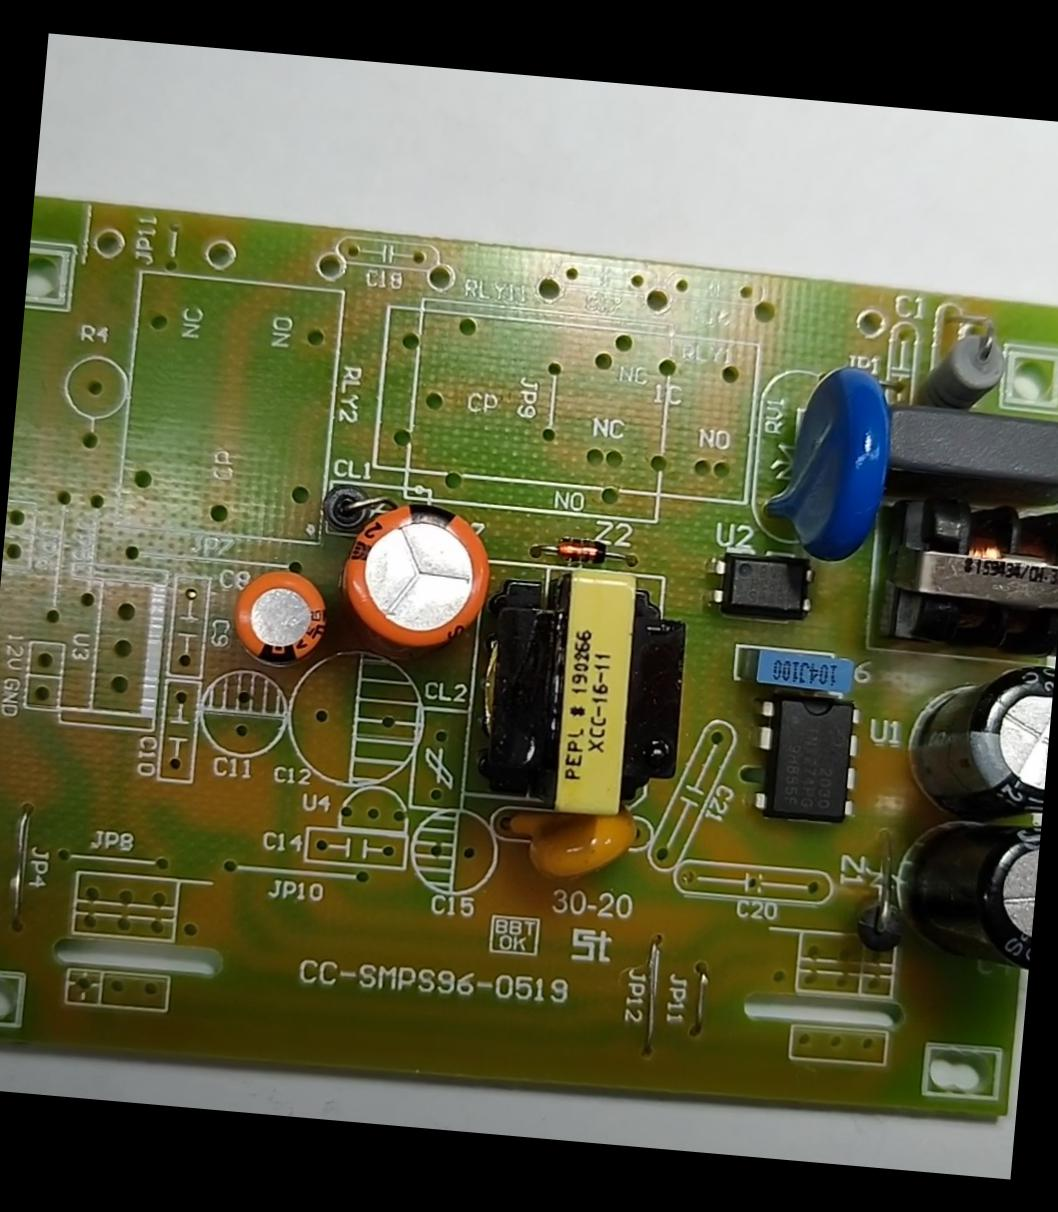Cap1: (327, 490, 500, 658)
Cap2: (228, 562, 336, 668)
Cap3: (900, 649, 1054, 815)
Cap4: (898, 806, 1040, 977)
MOSFET: (744, 696, 864, 823)
Mov: (757, 356, 896, 565)
Resistor: (905, 325, 1012, 412)
Transformer: (472, 557, 699, 821), (871, 484, 1057, 663)
